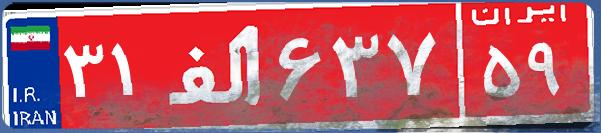1: (110, 28, 158, 105)
3: (330, 28, 385, 110), (57, 26, 110, 107)
5: (475, 38, 525, 113)
6: (273, 28, 330, 110)
7: (385, 28, 445, 110)
9: (525, 38, 570, 115)
الف: (158, 15, 273, 115)
